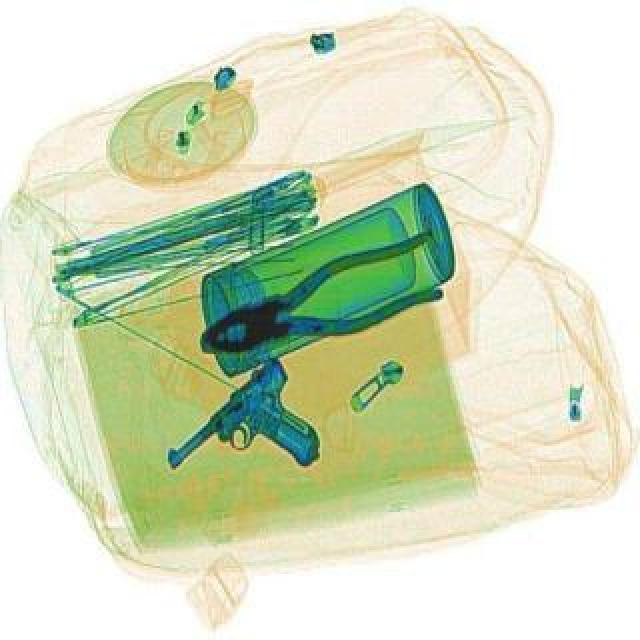gun: (160, 358, 356, 534)
wrench: (188, 232, 460, 386)
